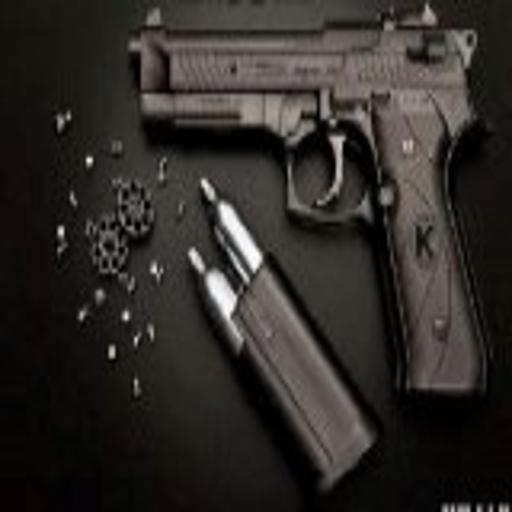Handgun: (123, 3, 495, 404)
